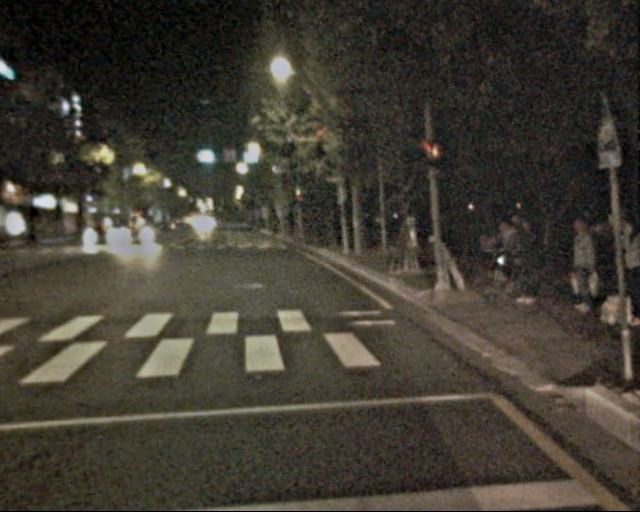person: (498, 215, 544, 299), (564, 220, 603, 315), (610, 218, 640, 328)
